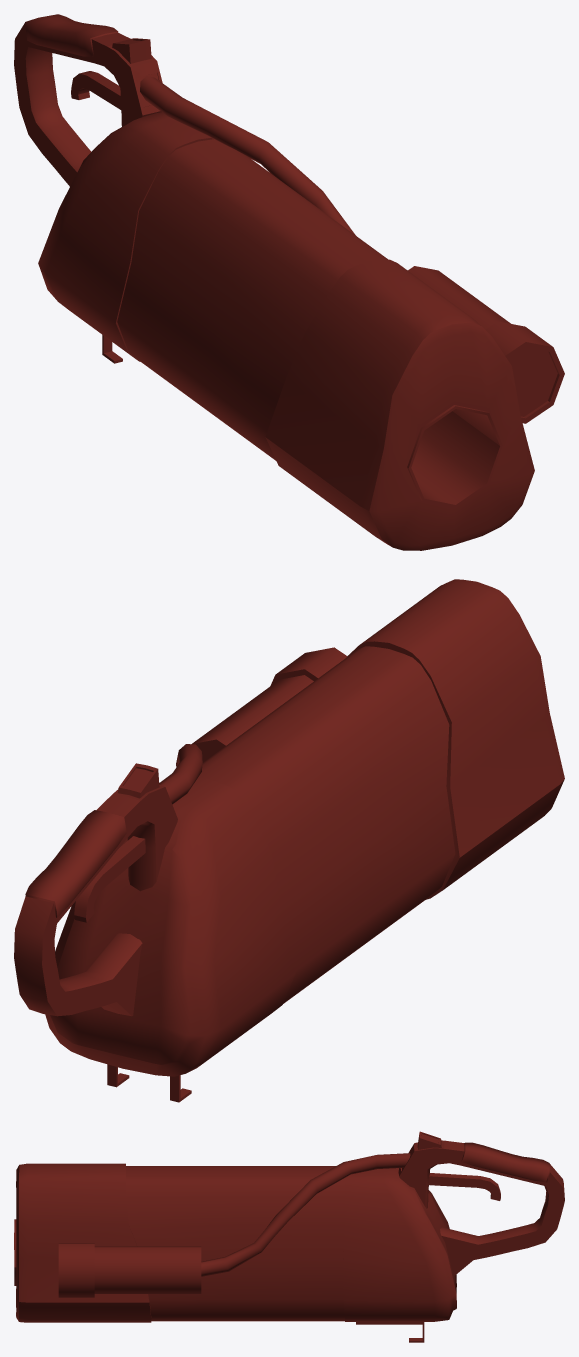
Rendered from fire extinguisher low poly.fbx.
3 renders of one model, top to bottom at view 1: azimuth 30°, elevation 25°; view 2: azimuth 150°, elevation 25°; view 3: azimuth 270°, elevation 25°, orthographic. The views are drawn at different scales.
Parts seen in each view (by area): view 1: main_gun_low, handle_low (×2), flashlight_low, wire_low; view 2: main_gun_low, handle_low (×2), flashlight_low, wire_low; view 3: main_gun_low, handle_low (×2), flashlight_low, wire_low, hook_low.
Boxes of the visible parts, x1,y1,x2,y2 form: main_gun_low: [38, 112, 534, 550]; handle_low (×2): [14, 14, 162, 186]; flashlight_low: [408, 266, 564, 423]; wire_low: [140, 76, 355, 235]; main_gun_low: [45, 579, 564, 1076]; handle_low (×2): [14, 763, 177, 1016]; flashlight_low: [191, 647, 347, 762]; wire_low: [159, 744, 202, 804]; main_gun_low: [14, 1163, 456, 1322]; handle_low (×2): [398, 1131, 564, 1275]; flashlight_low: [58, 1243, 201, 1297]; wire_low: [201, 1153, 410, 1276]; hook_low: [356, 1322, 424, 1342].
Bounding box in the file's own units: 6.59 × 8.47 × 21.43.
